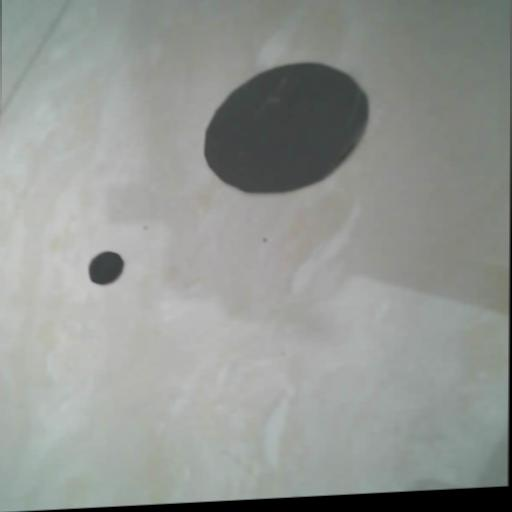pothole: (202, 58, 369, 197), (86, 250, 125, 286)
